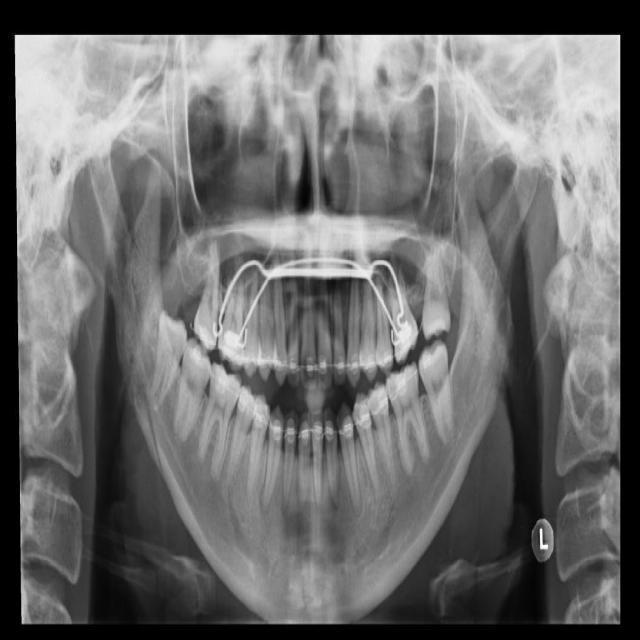impacted tooth: (146, 314, 188, 410)
